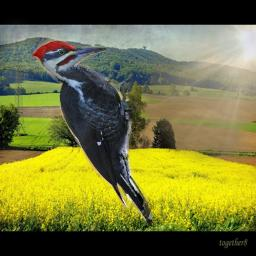Woodpecker: (30, 39, 152, 226)
